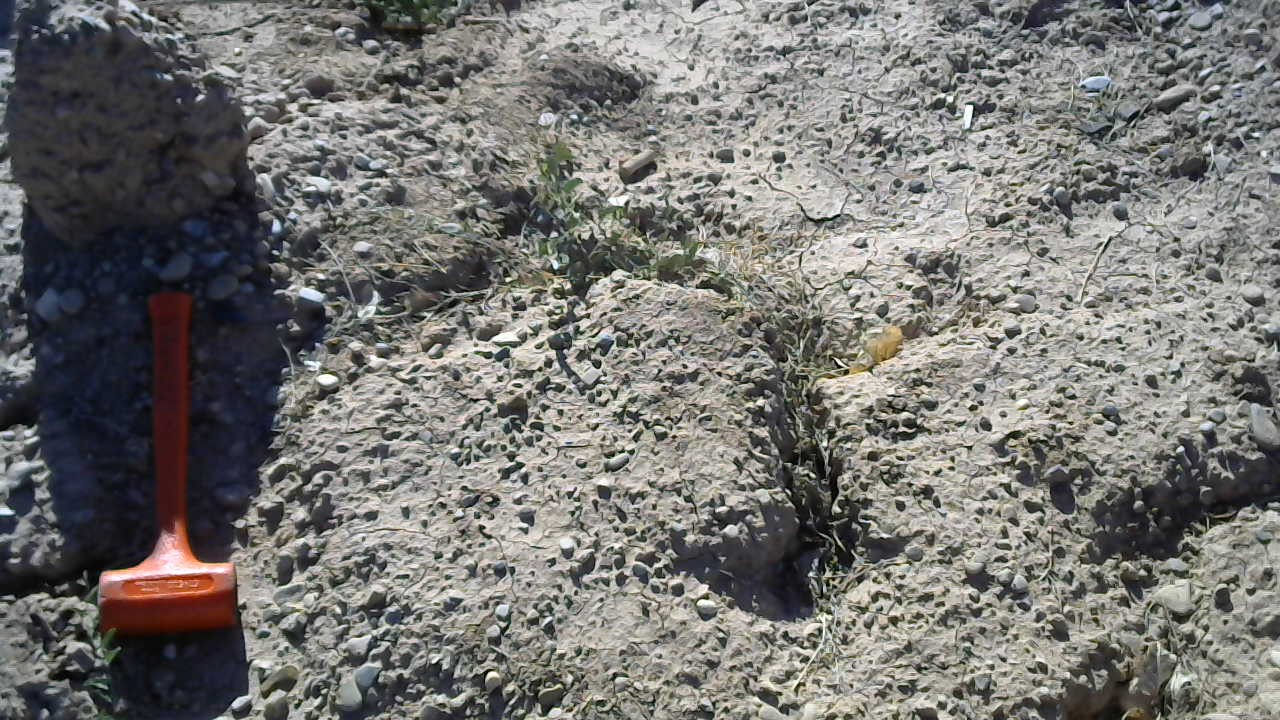hammer: (72, 289, 246, 634)
